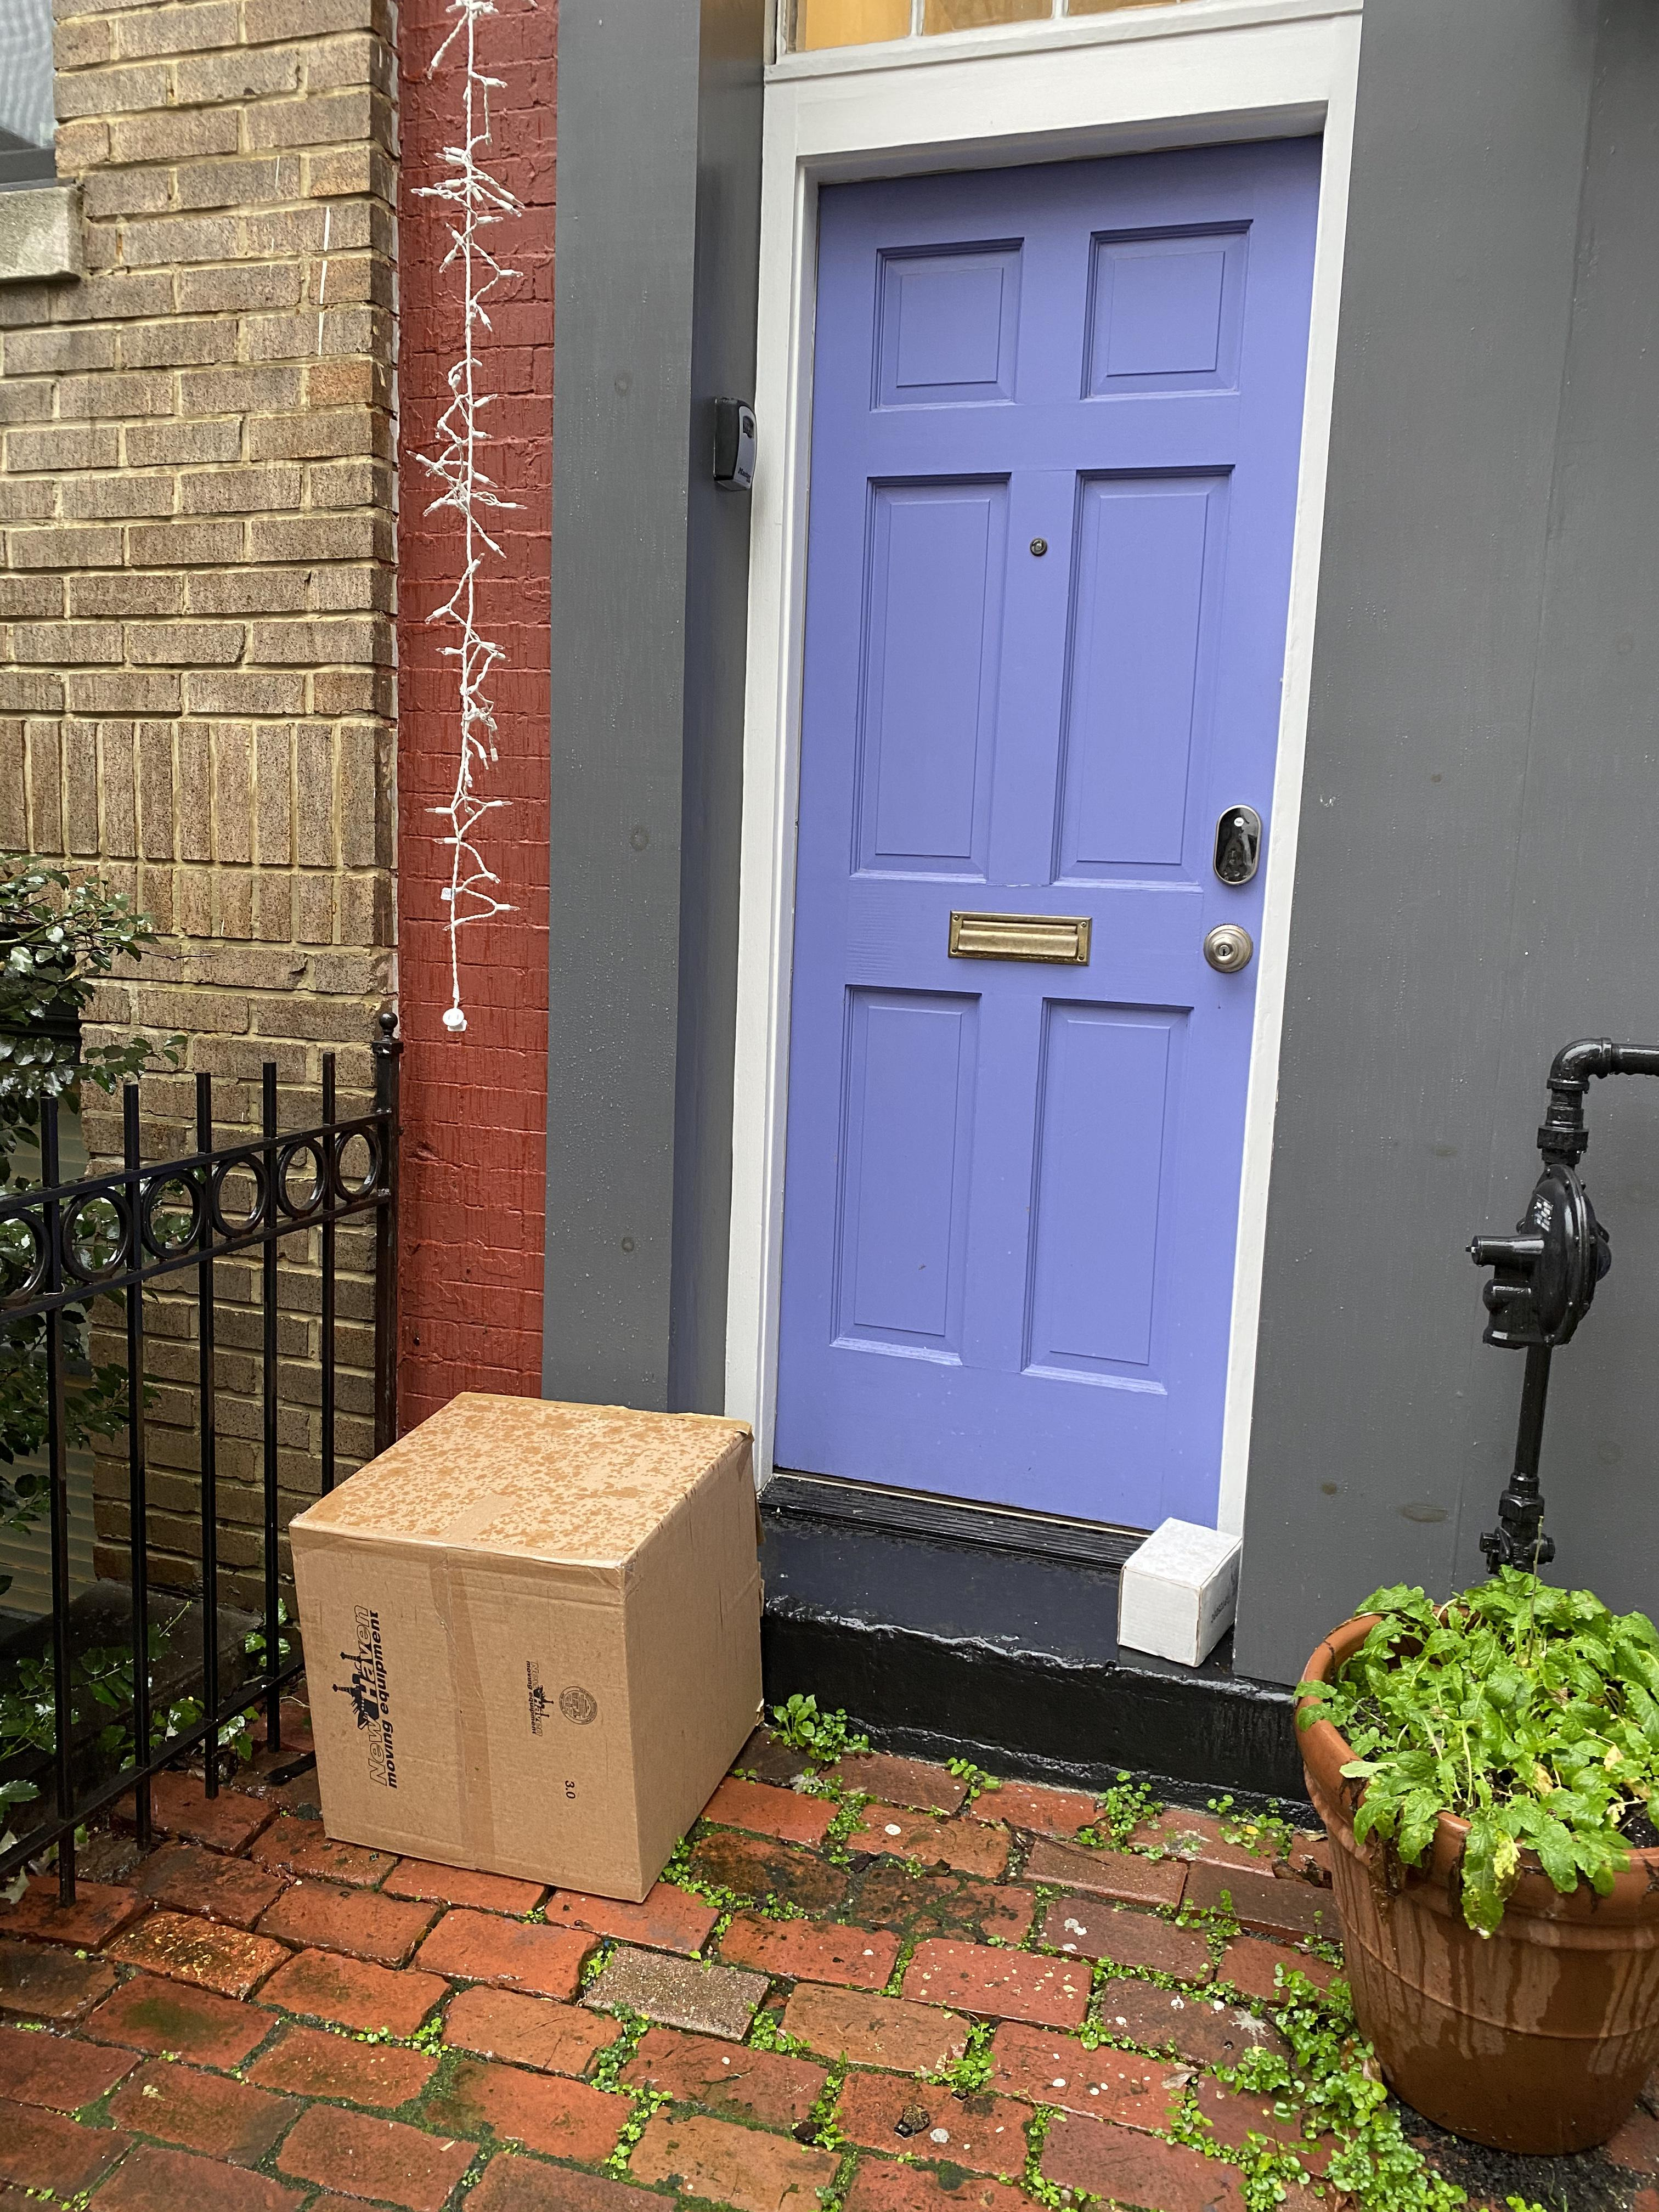package: (272, 1374, 796, 1923), (1110, 1505, 1256, 1674)
